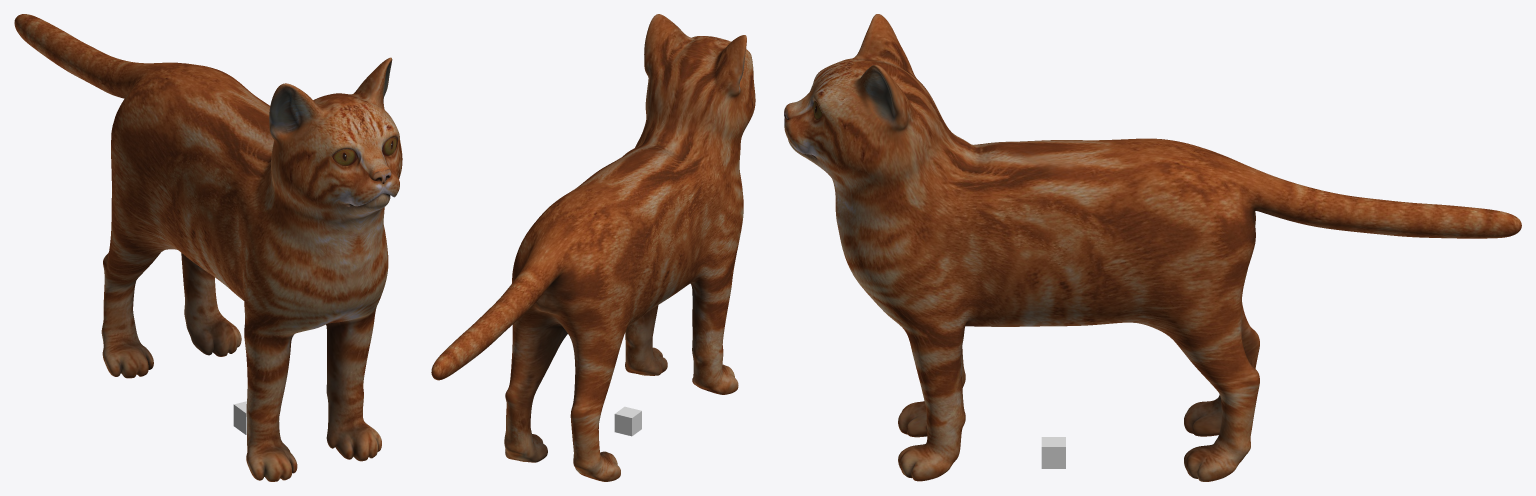
Rendered from cat.glb.
3 views of the same model, side by side, from view 1: azimuth 30°, elevation 25°; view 2: azimuth 150°, elevation 25°; view 3: azimuth 270°, elevation 25° (orthographic). The views are drawn at different scales.
Parts seen in each view (by area): view 1: 12221_Cat_v1_l3; view 2: 12221_Cat_v1_l3, Cube; view 3: 12221_Cat_v1_l3, Cube.
Boxes of the visible parts, <box> form: 12221_Cat_v1_l3: <box>14,14,402,481</box>; 12221_Cat_v1_l3: <box>431,14,755,481</box>; Cube: <box>614,406,641,436</box>; 12221_Cat_v1_l3: <box>784,14,1521,481</box>; Cube: <box>1041,437,1065,468</box>.
Bounding box in the file's own units: 12.56 × 38.61 × 60.88.
Materials: 2 (1 with a texture image).
